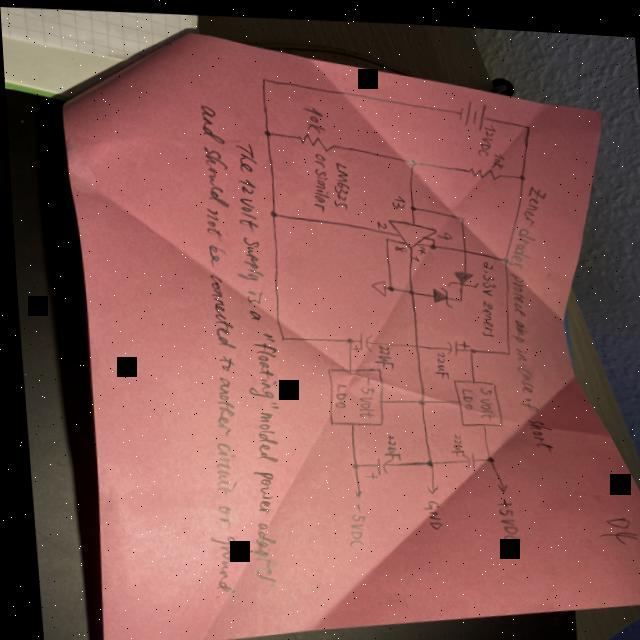capacitor: (354, 450, 391, 477), (440, 332, 467, 350), (346, 327, 369, 346), (455, 445, 473, 463)
crossover: (409, 336, 417, 343), (458, 241, 466, 247)
diode: (443, 263, 476, 282), (428, 279, 450, 301)
ground: (367, 273, 384, 291)
junction: (261, 124, 272, 133), (412, 391, 423, 400), (382, 278, 393, 287), (344, 456, 354, 465), (515, 165, 525, 174), (267, 205, 277, 214), (258, 71, 269, 79), (403, 282, 414, 290), (420, 453, 429, 462), (342, 331, 351, 340), (480, 448, 490, 456), (406, 152, 415, 160), (406, 198, 416, 205), (274, 331, 284, 338), (455, 208, 464, 215), (464, 340, 473, 347), (523, 116, 531, 123), (499, 249, 507, 256), (426, 237, 434, 243), (453, 290, 460, 296), (381, 230, 387, 236), (501, 343, 507, 348), (428, 231, 433, 235)
resistor: (296, 127, 334, 147), (463, 158, 498, 174)
source: (455, 92, 490, 124)
terminal: (419, 478, 435, 489), (492, 475, 504, 486), (347, 484, 357, 494)
text: (174, 93, 252, 593), (217, 137, 288, 586), (499, 175, 561, 447), (307, 147, 331, 205), (338, 498, 364, 547), (490, 490, 515, 540), (327, 154, 351, 205), (349, 370, 372, 413), (472, 117, 499, 152), (476, 293, 495, 331), (416, 493, 439, 524), (302, 100, 325, 129), (473, 380, 491, 414), (477, 254, 494, 289), (368, 338, 391, 363), (377, 427, 396, 455), (327, 377, 345, 404), (429, 345, 444, 372), (444, 425, 459, 448), (488, 144, 504, 163), (457, 381, 470, 404), (387, 189, 405, 203), (435, 224, 449, 233), (391, 239, 405, 248), (373, 214, 386, 223), (414, 238, 424, 249), (408, 248, 417, 256)
